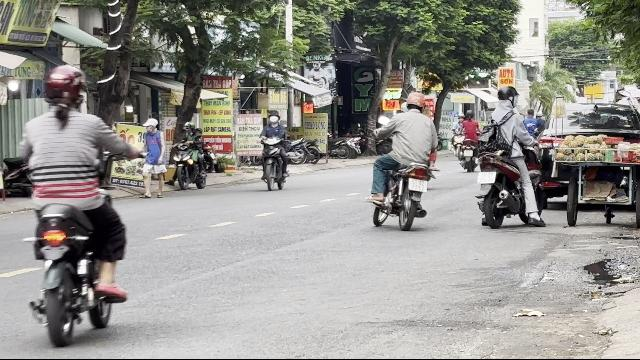helmet: (41, 64, 88, 112), (495, 84, 517, 108), (404, 91, 424, 111)
licenseplate: (408, 179, 428, 194), (477, 172, 495, 182)
motorcyclist: (10, 63, 134, 344), (366, 90, 440, 230), (473, 84, 542, 228), (256, 110, 292, 190)
